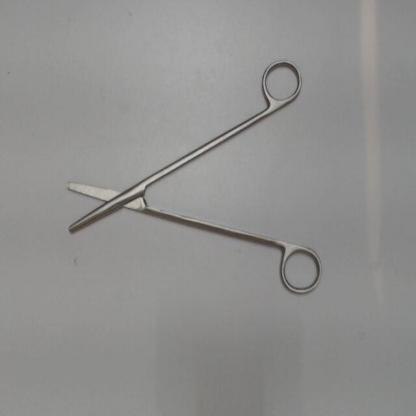9 Metzenbaum Scissors: (59, 51, 334, 306)
